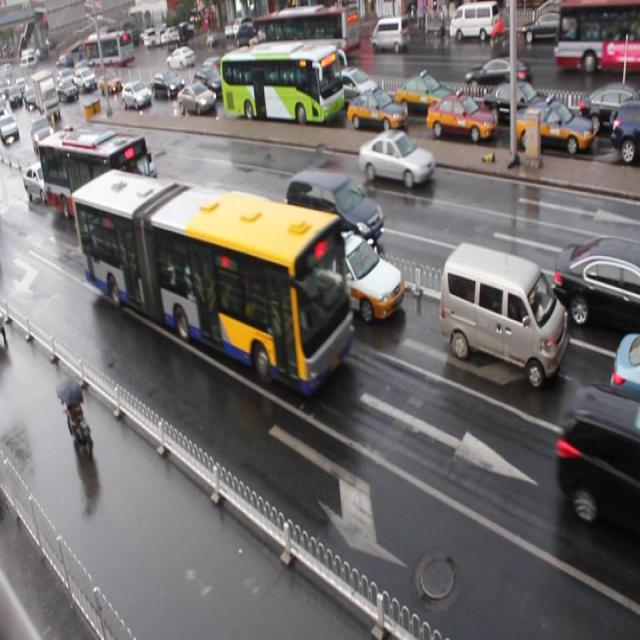car: (557, 385, 640, 541), (299, 229, 403, 321), (551, 237, 640, 337), (514, 100, 594, 160), (139, 188, 207, 252), (359, 132, 434, 189), (478, 78, 556, 128), (426, 91, 497, 145), (608, 330, 640, 433), (394, 72, 458, 118), (578, 89, 640, 134), (346, 88, 406, 134), (330, 63, 381, 103), (116, 140, 158, 185), (610, 100, 640, 161), (22, 159, 61, 204), (193, 64, 227, 101), (170, 82, 208, 114), (146, 69, 181, 97), (120, 80, 150, 108)
truck: (438, 240, 567, 389), (286, 167, 383, 253), (214, 187, 289, 282)
van: (71, 164, 356, 402), (38, 127, 154, 235), (216, 41, 339, 125)
